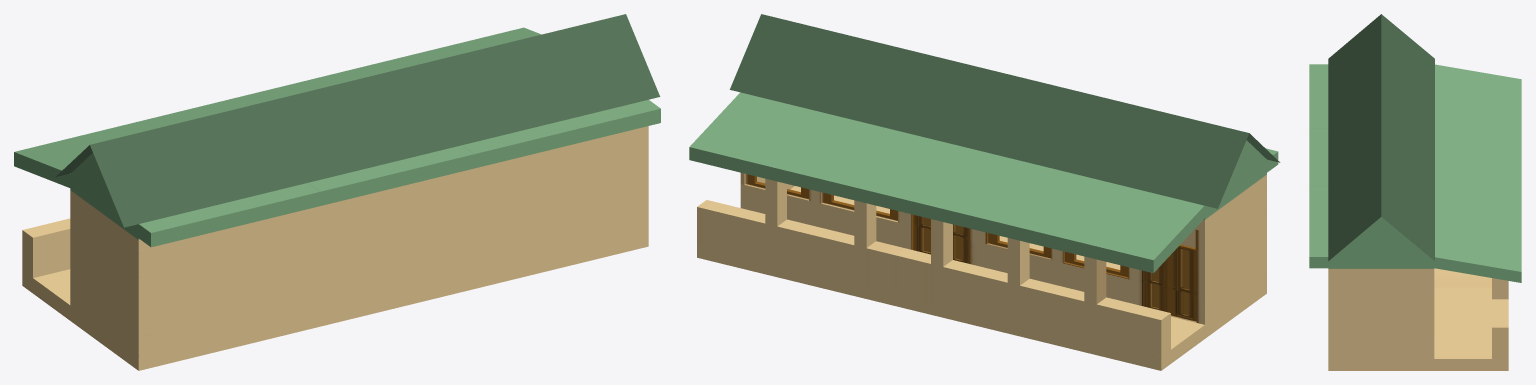
The model's file is gedung sekolah2 1.fbx.
3 views of the same model, side by side, from view 1: azimuth 30°, elevation 25°; view 2: azimuth 150°, elevation 25°; view 3: azimuth 270°, elevation 25° (orthographic). The views are drawn at different scales.
Visible parts, largest first — view 1: Cube, Cube.001; view 2: Cube, Cube.001; view 3: Cube, Cube.001.
Part boxes in pixels (box(x1,y1,x2,y2)): Cube: box(14, 27, 660, 370); Cube.001: box(56, 14, 660, 227); Cube: box(689, 92, 1278, 370); Cube.001: box(729, 14, 1280, 208); Cube: box(1309, 64, 1521, 370); Cube.001: box(1328, 14, 1434, 260).
Bounding box in the file's own units: 9.88 × 3.6 × 4.37.
Materials: 2 (1 with a texture image).
